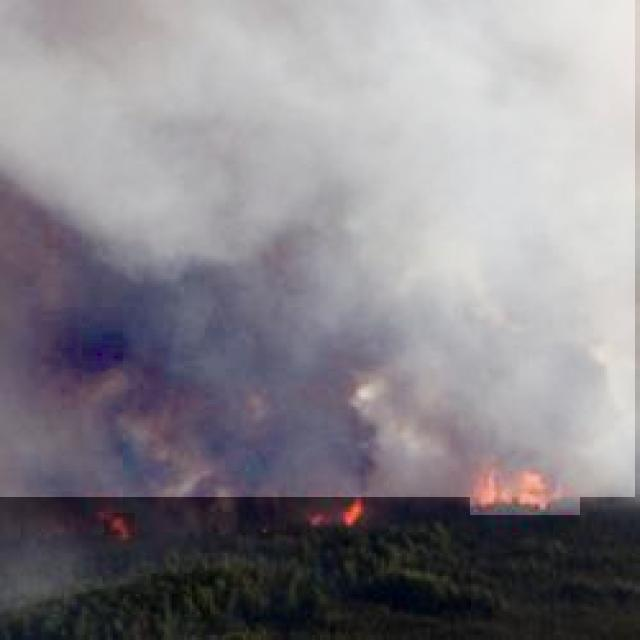Fire: (470, 467, 580, 515), (310, 499, 368, 527), (104, 513, 135, 535)
Smoke: (0, 0, 635, 497)
